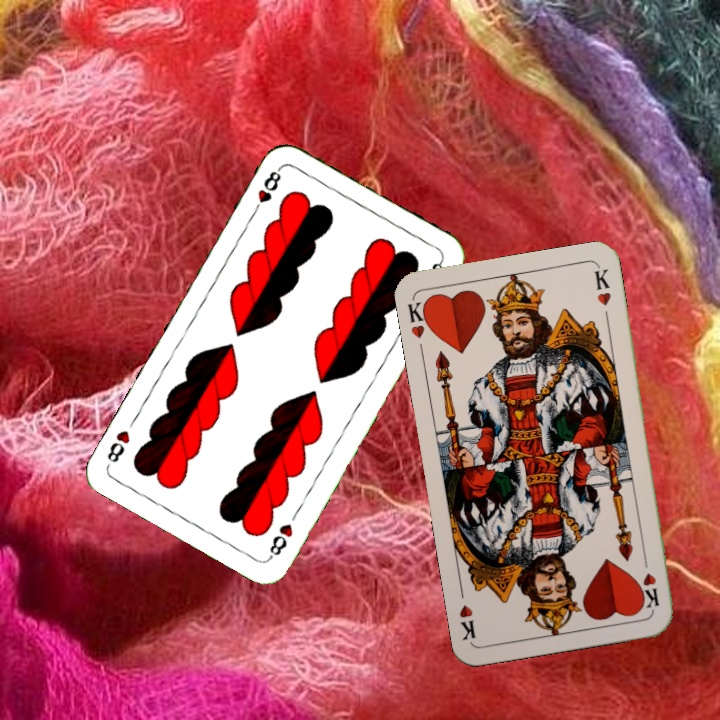H8: (248, 163, 284, 218), (265, 519, 296, 562)
HK: (637, 552, 662, 611), (404, 295, 434, 341)
